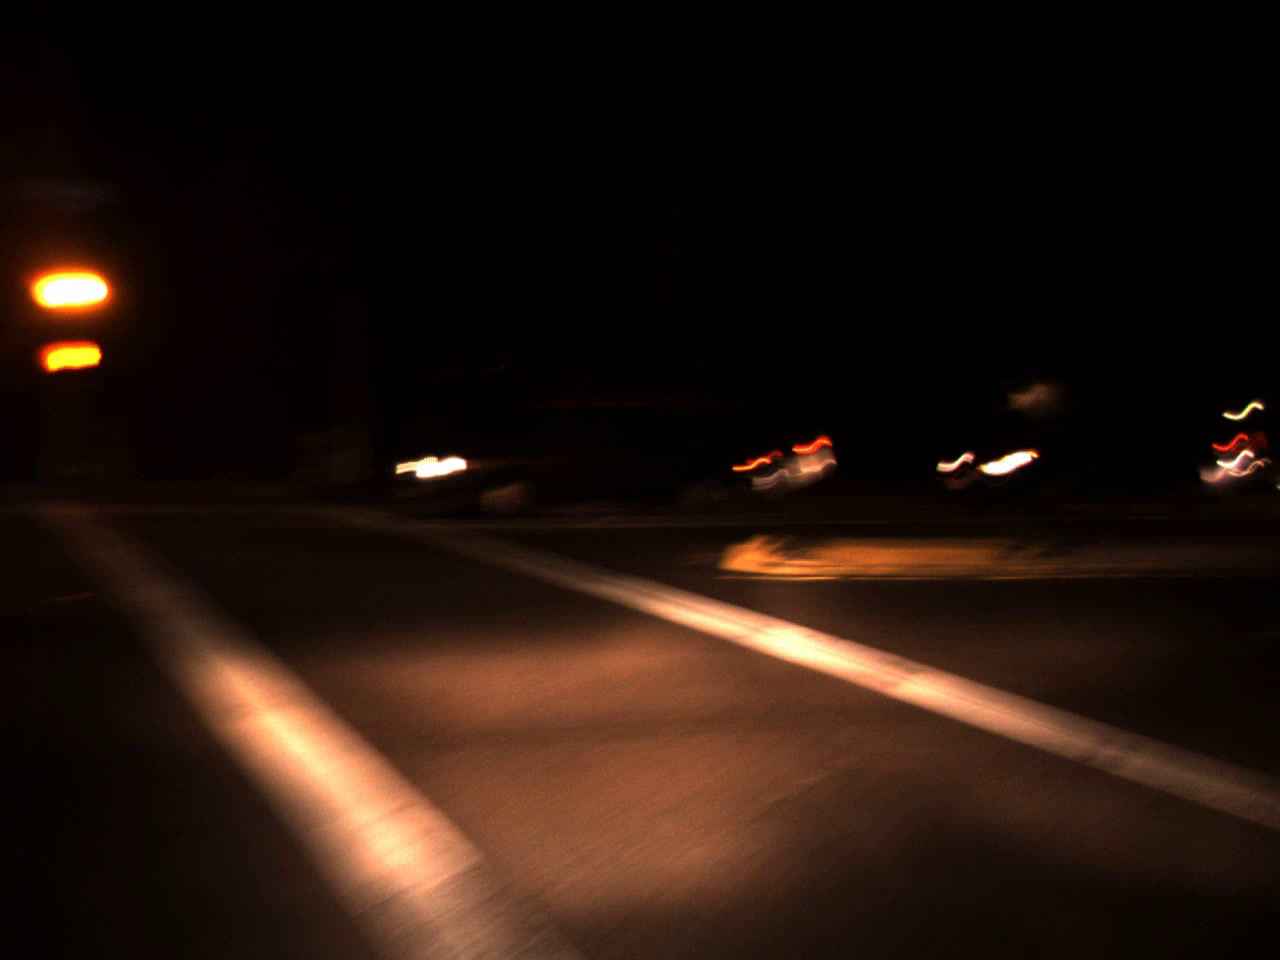warning: (42, 261, 102, 321)
